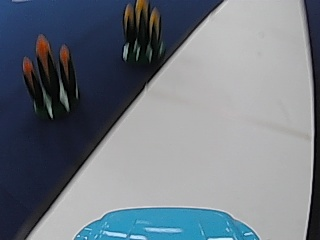corn: (23, 34, 81, 122), (119, 0, 164, 66)
